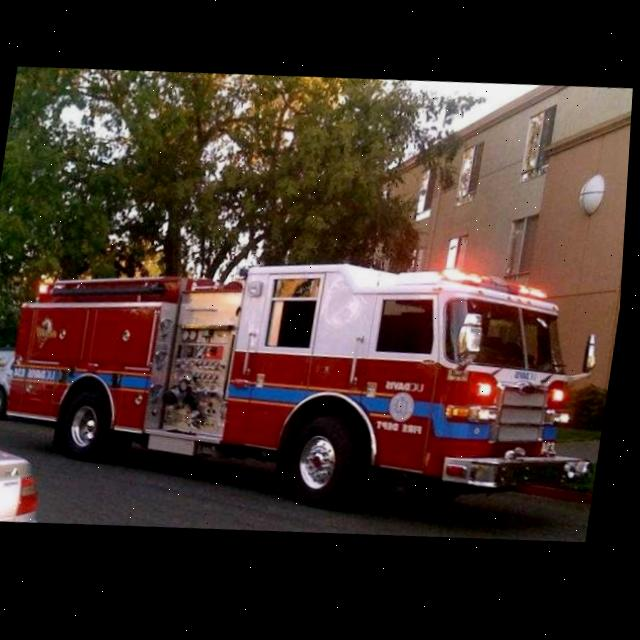emergency: (0, 225, 628, 544)
